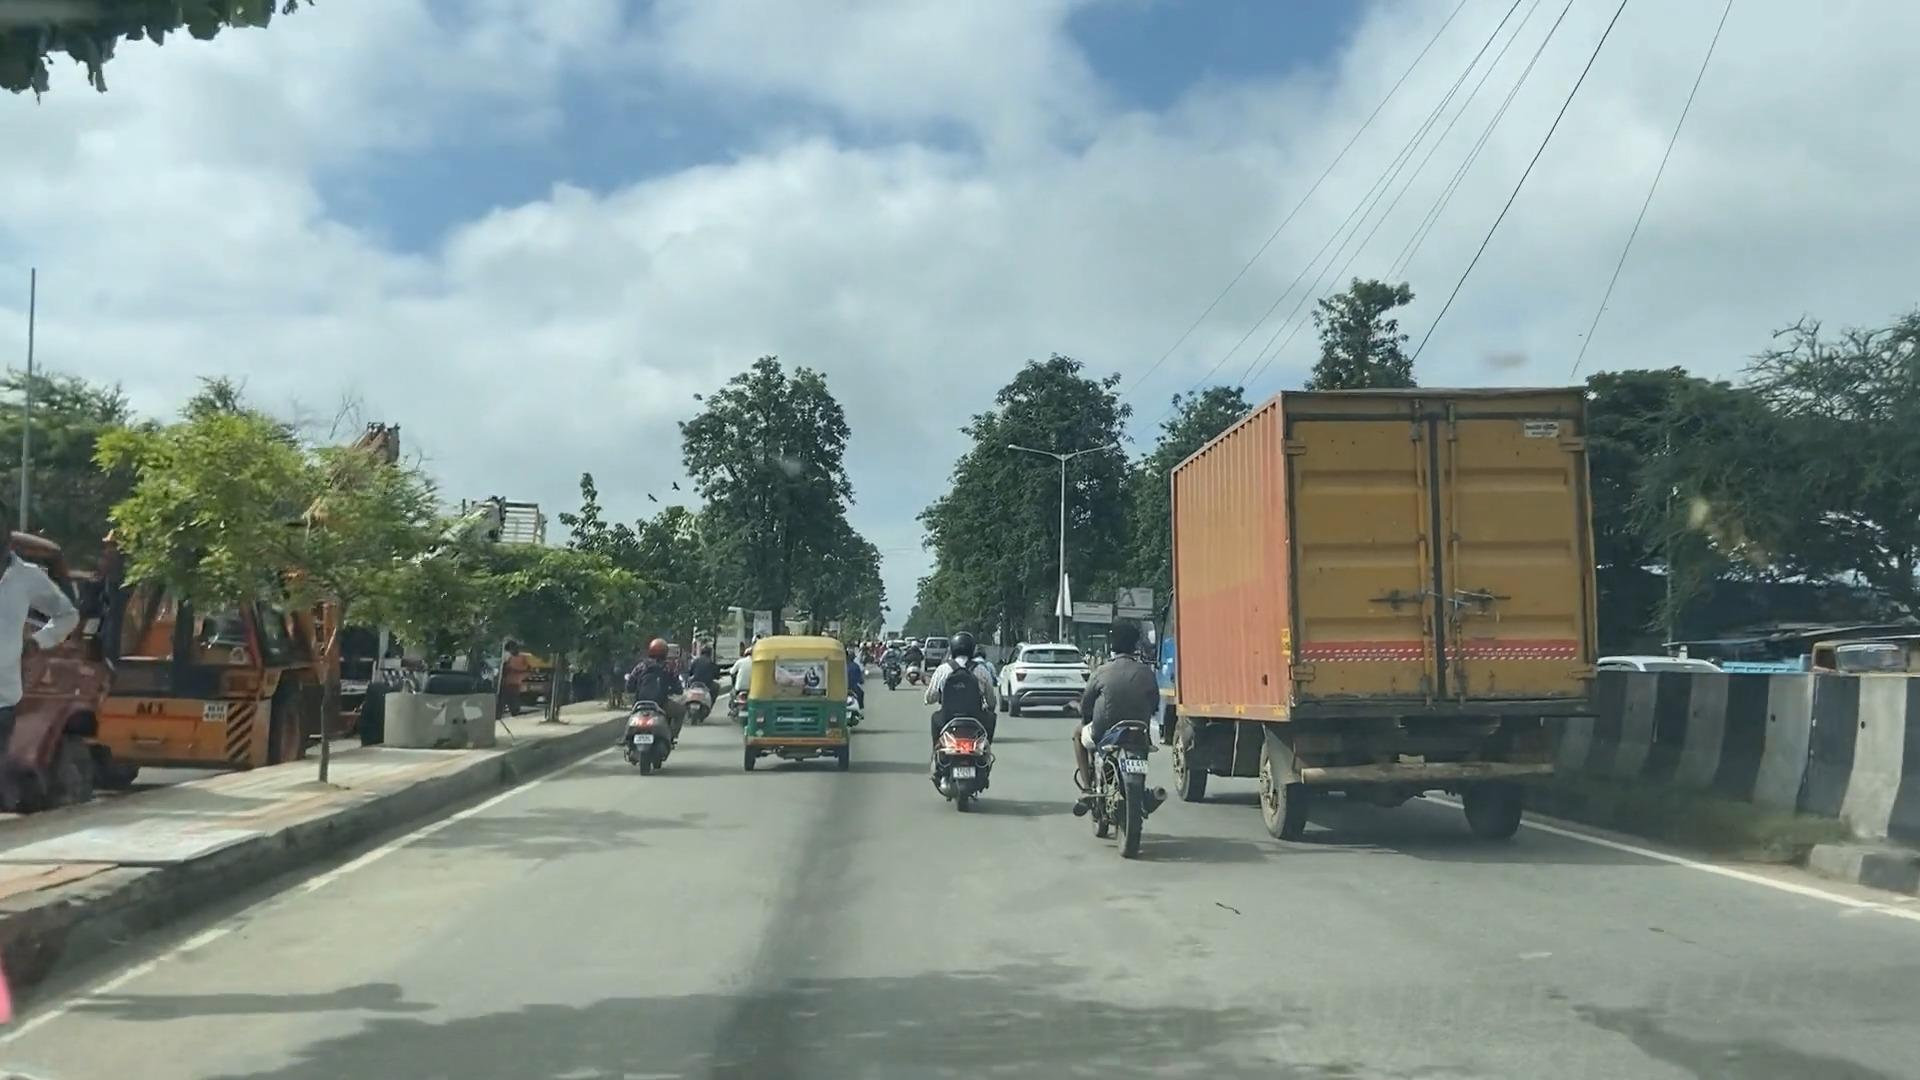HMV: (1278, 398, 1582, 836)
LMV: (1084, 624, 1147, 839), (754, 640, 849, 765), (926, 636, 992, 794), (620, 628, 686, 777)
